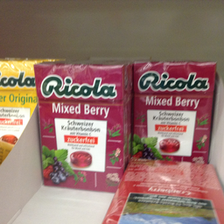candy: (35, 59, 127, 192), (131, 57, 213, 163), (106, 156, 221, 224)
